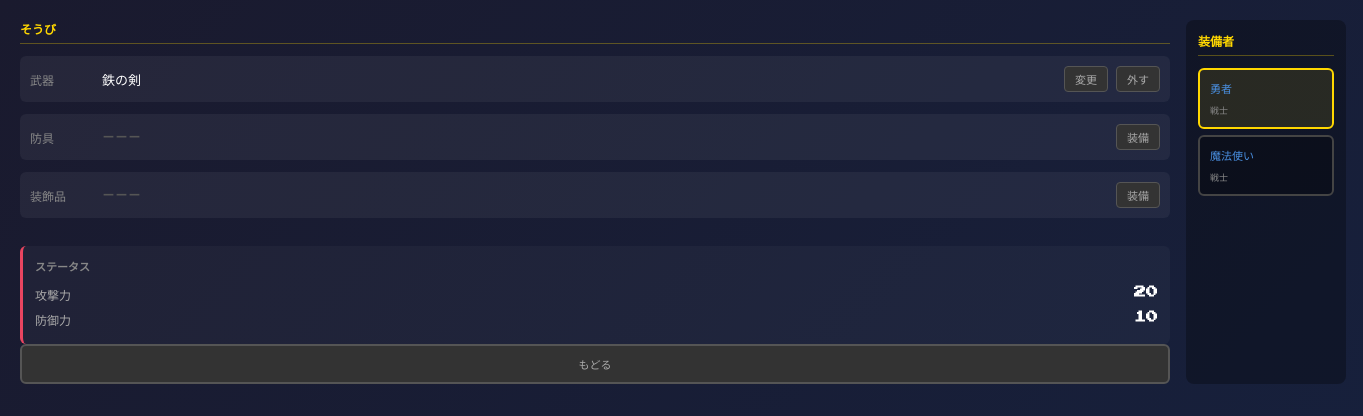
EquipmentPanel › 装備変更 › 装備選択で「もどる」をクリックするとスロットビューに戻る
Click the button "変更" at x=1086, y=79, box [1064,66,1108,92]
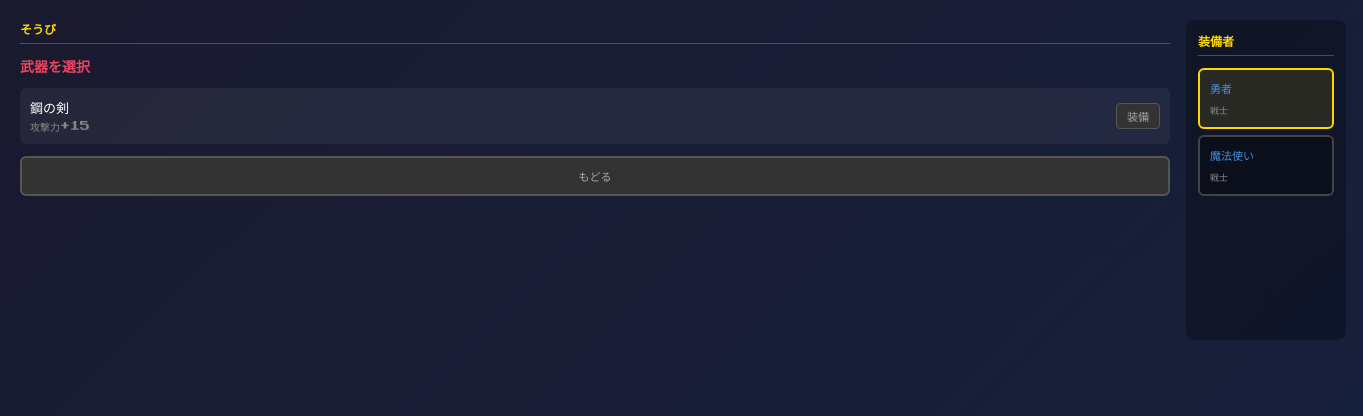
Check: the heading "武器を選択" is shown, box [20,58,90,72]
Click the button "もどる" at x=595, y=176, box [20,156,1170,196]
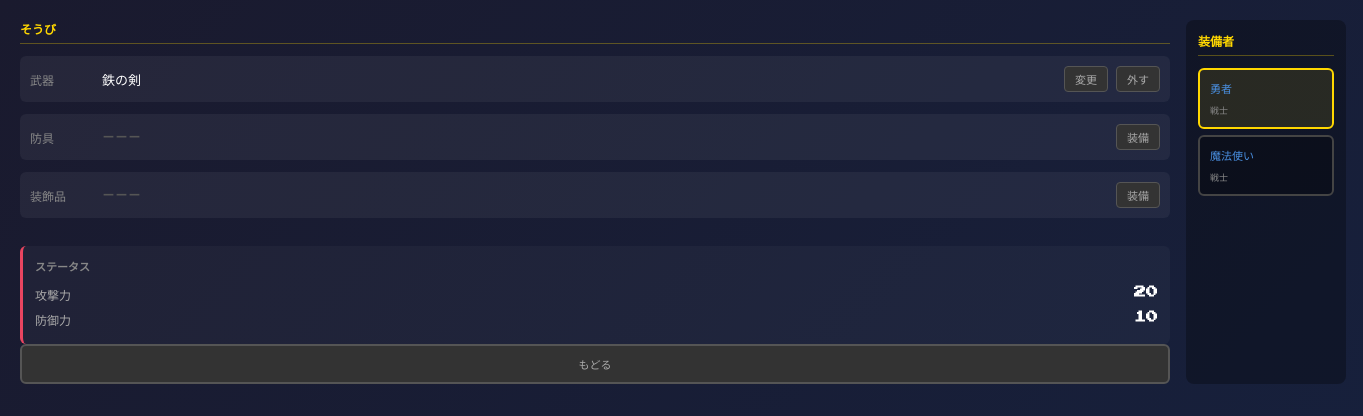
Check: the heading "武器を選択" is gone
